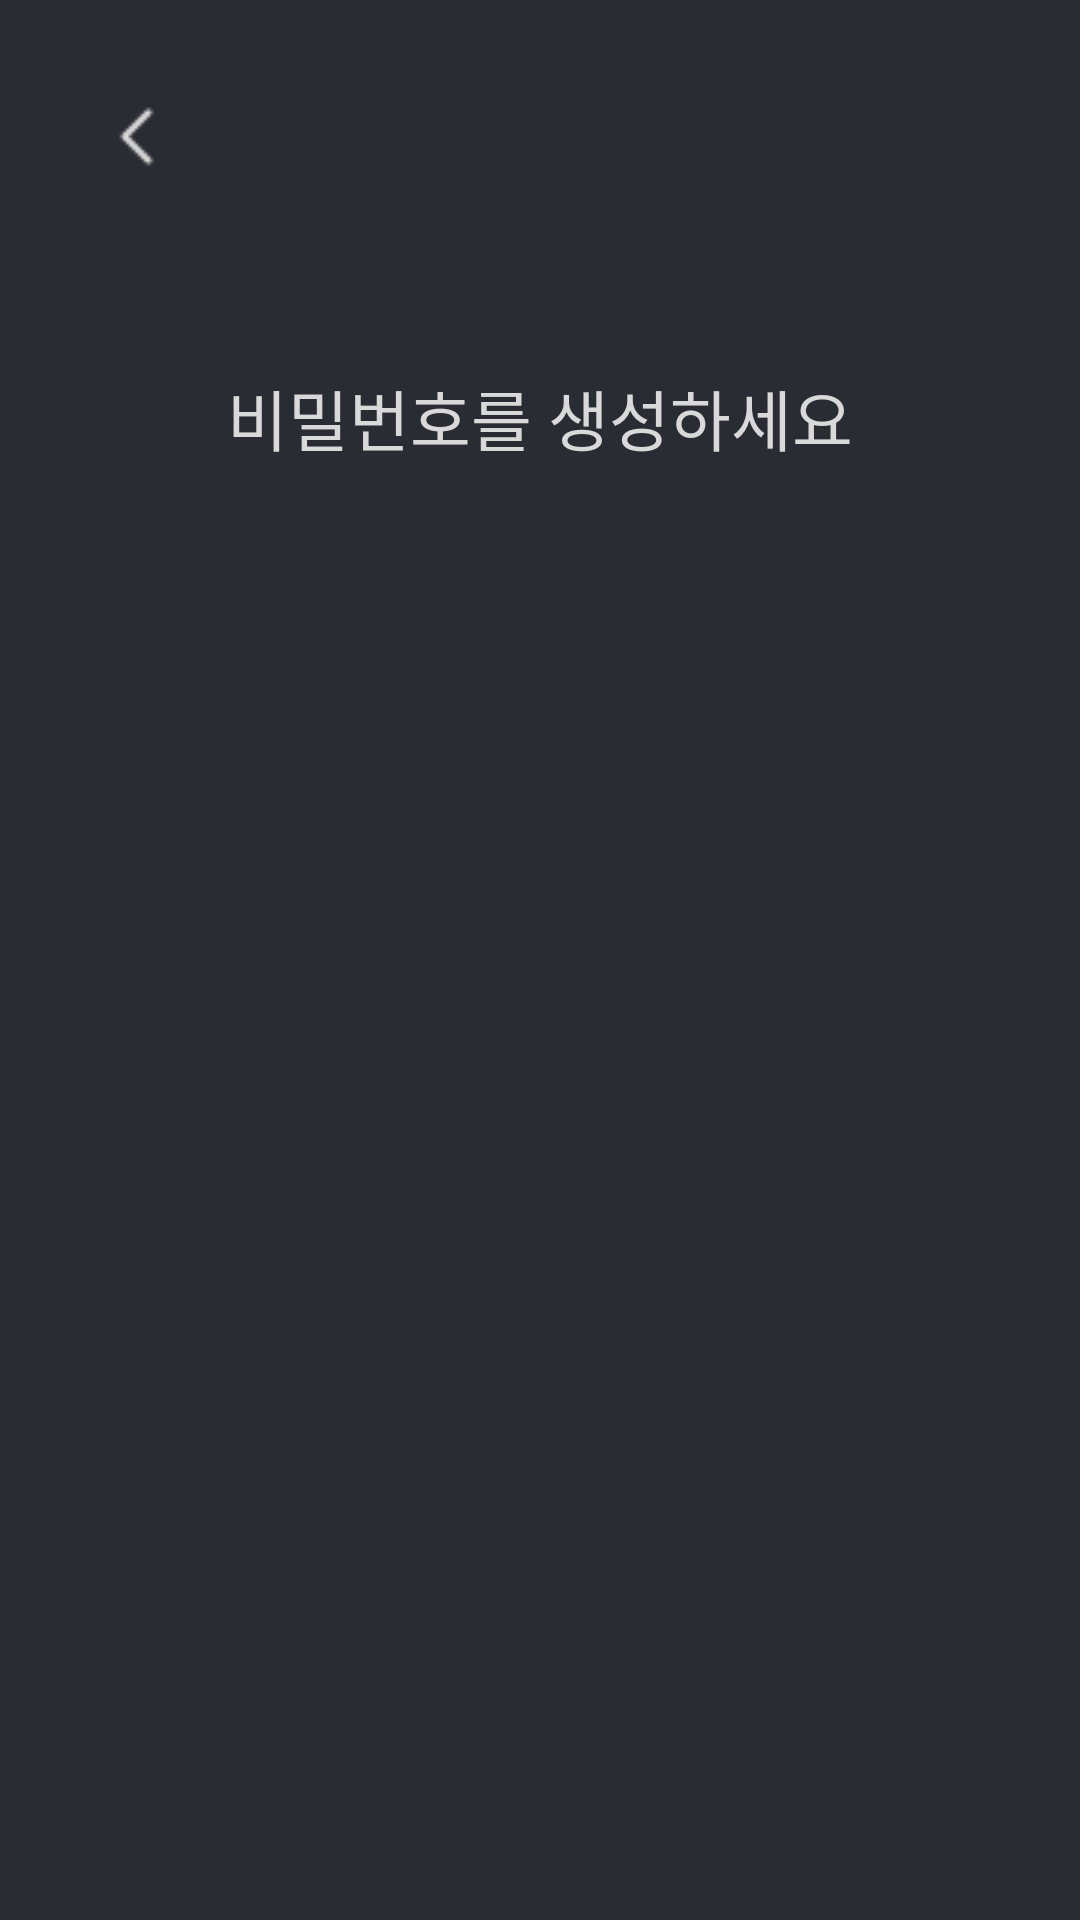

Where to tap for icons on this 1080px×1920px app screen, as point (x, y):
back: point (136, 136)
